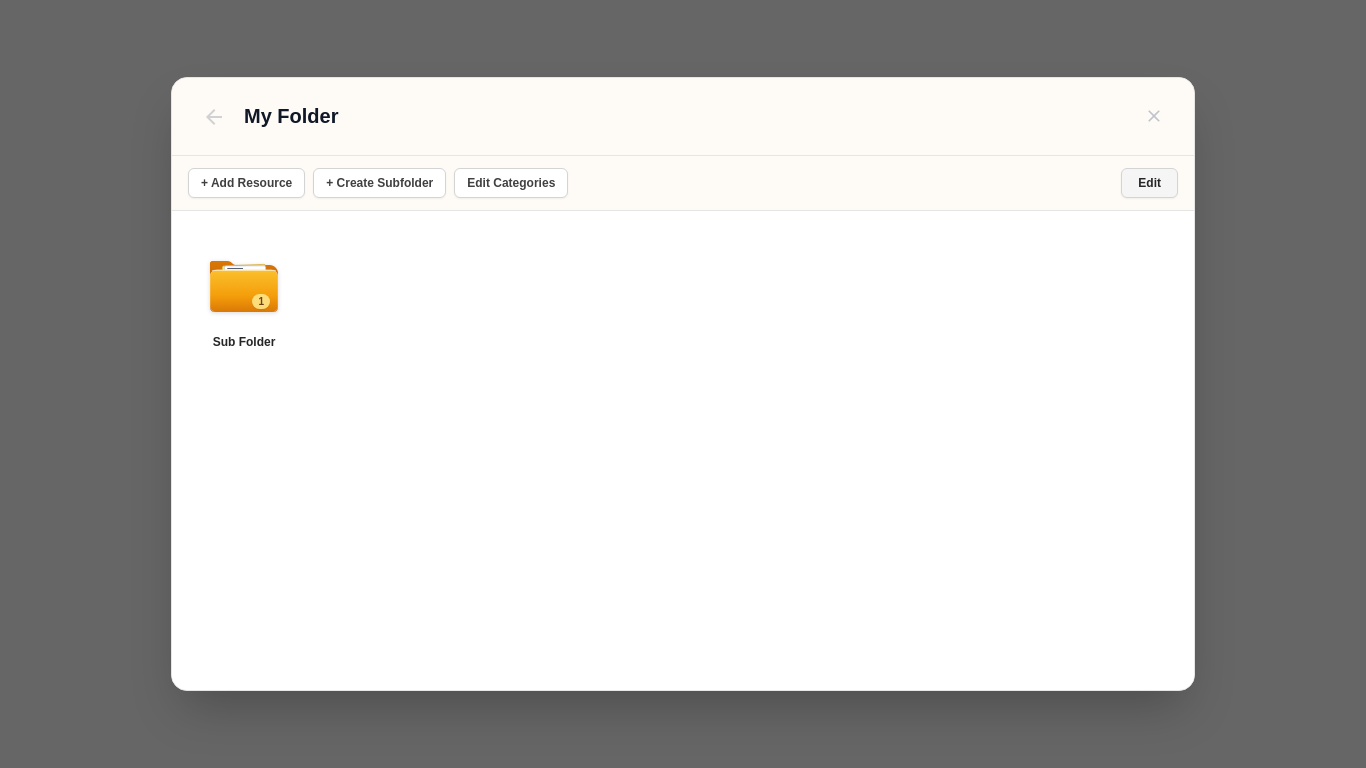
Scenario: FolderDirectoryModal pointer and drag events › successfully opens and stays in nested subfolders when clicked
The width and height of the screenshot is (1366, 768).
Expected: the heading "My Folder" is shown, left=244, top=105, right=338, bottom=127
Click subfolder card
Click the button "1 Sub Folder".
click(244, 309)  # box left=200, top=243, right=288, bottom=375
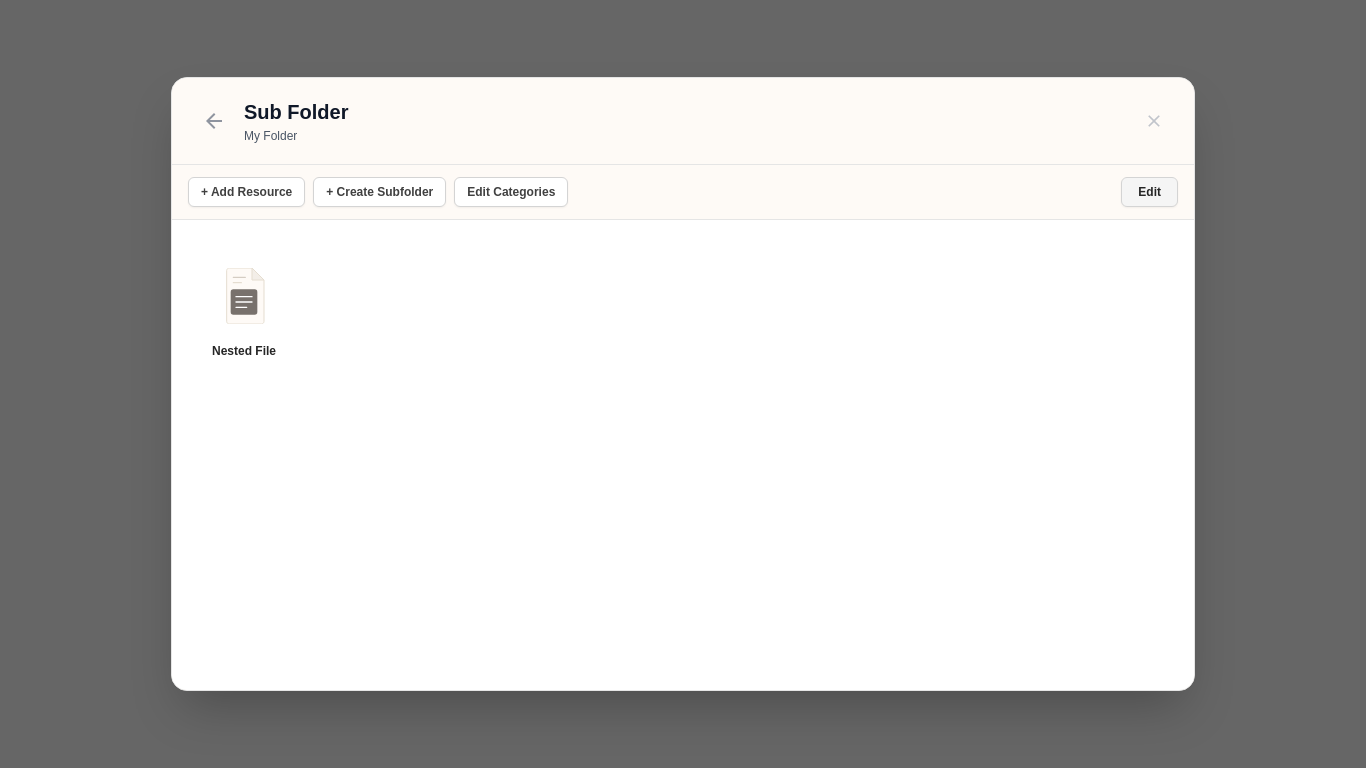
Expected: the button "My Folder" is shown, left=244, top=128, right=297, bottom=144
Expected: the heading "Sub Folder" is shown, left=244, top=101, right=348, bottom=123
